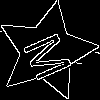M: (21, 27, 82, 84)
